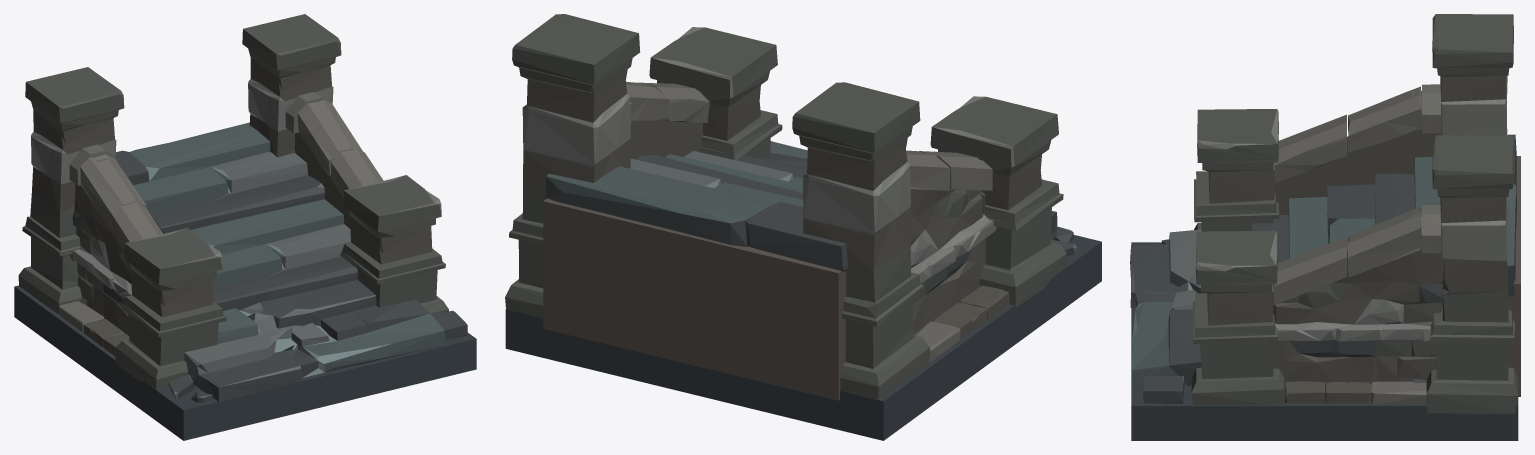
The model's file is MDungeons_Steps.FBX.
3 renders of one model, left to right at view 1: azimuth 30°, elevation 25°; view 2: azimuth 150°, elevation 25°; view 3: azimuth 270°, elevation 25°, orthographic. The views are drawn at different scales.
Parts seen in each view (by area): view 1: MDungeons_Steps_LOD0; view 2: MDungeons_Steps_LOD0; view 3: MDungeons_Steps_LOD0.
Part boxes in pixels (<box>): MDungeons_Steps_LOD0: <box>14,14,476,440</box>; MDungeons_Steps_LOD0: <box>505,14,1101,440</box>; MDungeons_Steps_LOD0: <box>1130,14,1520,440</box>.
Size of what is drawn, in the model's own units: 6.01 by 4.57 by 6.03.
